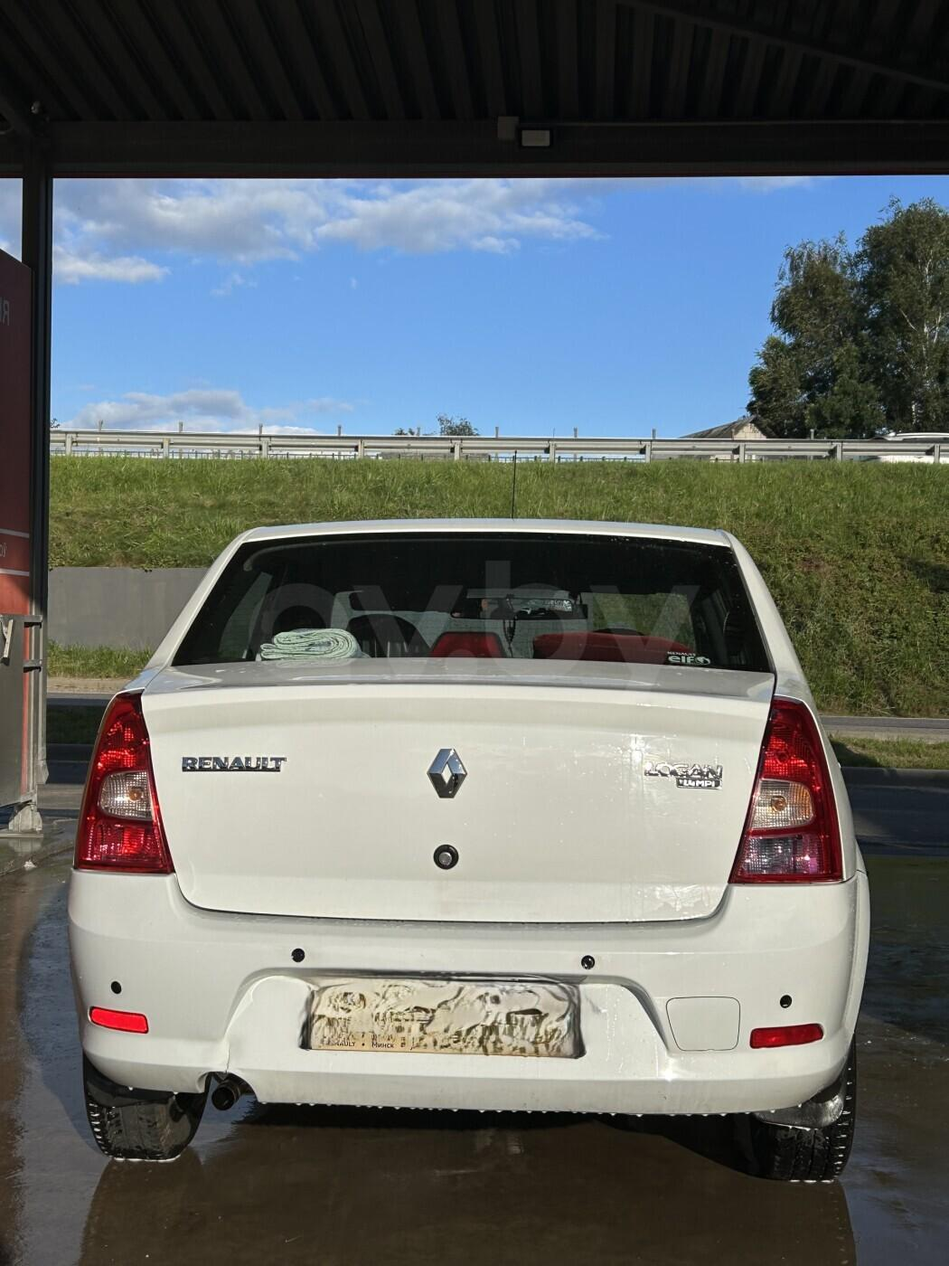Logan_2008-2015: (70, 512, 880, 1221)
